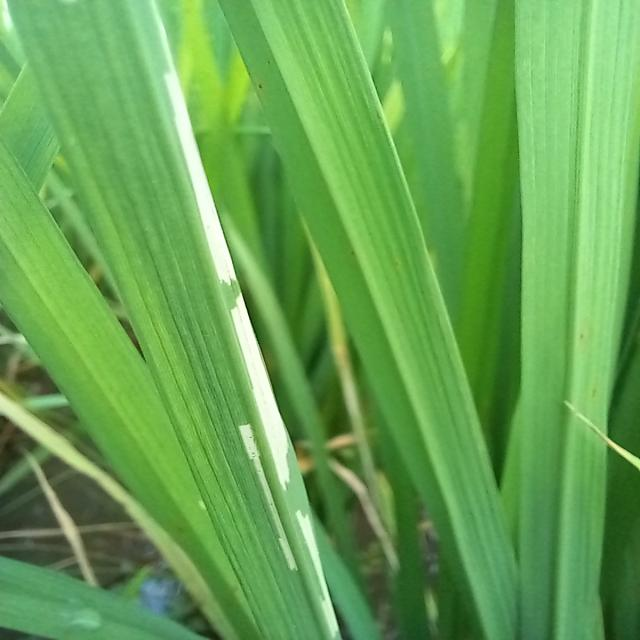Rice_Hispa: (157, 66, 236, 293), (230, 292, 290, 493)
